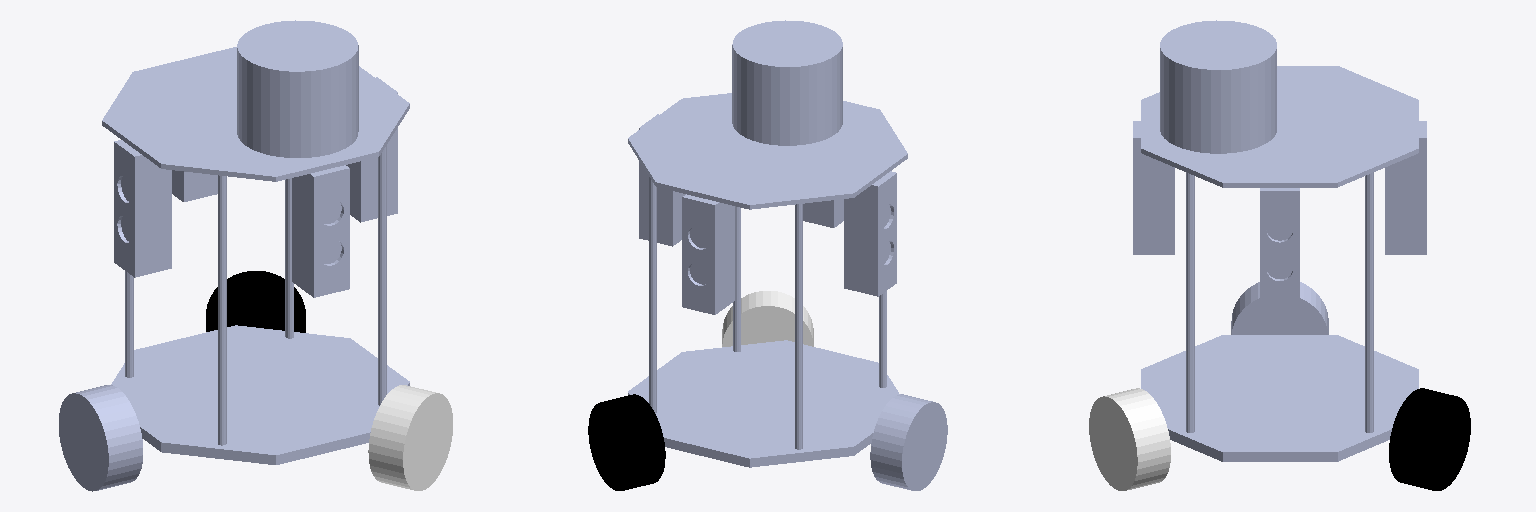
robot.urdf — rover:
<?xml version="1.0" encoding="utf-8"?>
<!-- This URDF was automatically created by SolidWorks to URDF Exporter! Originally created by [author] ([email redacted]) 
     Commit Version: 1.6.0-4-g7f85cfe  Build Version: 1.6.7995.38578
     For more information, please see http://wiki.ros.org/sw_urdf_exporter -->
<robot
  name="rover">
  <link
    name="base_link">
    <inertial>
      <origin
        xyz="9.58610261324536E-18 3.82610526269858E-18 0.064590953056216"
        rpy="0 0 0" />
      <mass
        value="0.229882969798051" />
      <inertia
        ixx="0.00200848181105579"
        ixy="1.48892510259545E-20"
        ixz="-1.74672005295794E-20"
        iyy="0.00200848181105579"
        iyz="2.68260460885518E-19"
        izz="0.000860077065262754" />
    </inertial>
    <visual>
      <origin
        xyz="0 0 0"
        rpy="0 0 0" />
      <geometry>
        <mesh
          filename="package://rover/meshes/base_link.STL" />
      </geometry>
      <material
        name="">
        <color
          rgba="0.792156862745098 0.819607843137255 0.933333333333333 1" />
      </material>
    </visual>
    <collision>
      <origin
        xyz="0 0 0"
        rpy="0 0 0" />
      <geometry>
        <mesh
          filename="package://rover/meshes/base_link.STL" />
      </geometry>
    </collision>
  </link>
  <link
    name="wheel1_link">
    <inertial>
      <origin
        xyz="3.9489E-17 -1.2917E-16 0.0057626"
        rpy="0 0 0" />
      <mass
        value="0.060901" />
      <inertia
        ixx="1.5501E-05"
        ixy="8.4703E-22"
        ixz="-2.0892E-21"
        iyy="1.5501E-05"
        iyz="-4.0134E-21"
        izz="2.5609E-05" />
    </inertial>
    <visual>
      <origin
        xyz="0 0 0"
        rpy="0 0 0" />
      <geometry>
        <mesh
          filename="package://rover/meshes/wheel1_link.STL" />
      </geometry>
      <material
        name="">
        <color
          rgba="0 0 0 1" />
      </material>
    </visual>
    <collision>
      <origin
        xyz="0 0 0"
        rpy="0 0 0" />
      <geometry>
        <mesh
          filename="package://rover/meshes/wheel1_link.STL" />
      </geometry>
    </collision>
  </link>
  <joint
    name="wheel1_joint"
    type="continuous">
    <origin
      xyz="0.048665 0.08429 0"
      rpy="-1.5708 -0.38253 -0.5236" />
    <parent
      link="base_link" />
    <child
      link="wheel1_link" />
    <axis
      xyz="0 0 1" />
  </joint>
  <link
    name="wheel2_link">
    <inertial>
      <origin
        xyz="2.6725E-17 1.6435E-17 0.04488"
        rpy="0 0 0" />
      <mass
        value="0.060901" />
      <inertia
        ixx="1.5501E-05"
        ixy="8.4703E-22"
        ixz="2.1449E-21"
        iyy="1.5501E-05"
        iyz="-6.6049E-22"
        izz="2.5609E-05" />
    </inertial>
    <visual>
      <origin
        xyz="0 0 0"
        rpy="0 0 0" />
      <geometry>
        <mesh
          filename="package://rover/meshes/wheel2_link.STL" />
      </geometry>
      <material
        name="">
        <color
          rgba="1 1 1 1" />
      </material>
    </visual>
    <collision>
      <origin
        xyz="0 0 0"
        rpy="0 0 0" />
      <geometry>
        <mesh
          filename="package://rover/meshes/wheel2_link.STL" />
      </geometry>
    </collision>
  </link>
  <joint
    name="wheel2_joint"
    type="continuous">
    <origin
      xyz="0.029106 -0.050413 0"
      rpy="-1.5708 1.1361 -2.618" />
    <parent
      link="base_link" />
    <child
      link="wheel2_link" />
    <axis
      xyz="0 0 1" />
  </joint>
  <link
    name="wheel3_link">
    <inertial>
      <origin
        xyz="-2.1018E-17 -3.251E-17 0.011525"
        rpy="0 0 0" />
      <mass
        value="0.060901" />
      <inertia
        ixx="1.5501E-05"
        ixy="3.3881E-21"
        ixz="7.8988E-22"
        iyy="1.5501E-05"
        iyz="-1.7995E-21"
        izz="2.5609E-05" />
    </inertial>
    <visual>
      <origin
        xyz="0 0 0"
        rpy="0 0 0" />
      <geometry>
        <mesh
          filename="package://rover/meshes/wheel3_link.STL" />
      </geometry>
      <material
        name="">
        <color
          rgba="0.79216 0.81961 0.93333 1" />
      </material>
    </visual>
    <collision>
      <origin
        xyz="0 0 0"
        rpy="0 0 0" />
      <geometry>
        <mesh
          filename="package://rover/meshes/wheel3_link.STL" />
      </geometry>
    </collision>
  </link>
  <joint
    name="wheel2_joint"
    type="continuous">
    <origin
      xyz="-0.091567 0 0"
      rpy="-1.5708 -0.39309 1.5708" />
    <parent
      link="base_link" />
    <child
      link="wheel3_link" />
    <axis
      xyz="0 0 1" />
  </joint>
  <link
    name="us1_link">
    <inertial>
      <origin
        xyz="0.012002 0.038481 0.012243"
        rpy="0 0 0" />
      <mass
        value="0.045149" />
      <inertia
        ixx="2.488E-05"
        ixy="1.7839E-21"
        ixz="-1.4826E-22"
        iyy="4.4717E-06"
        iyz="1.8088E-21"
        izz="2.4809E-05" />
    </inertial>
    <visual>
      <origin
        xyz="0 0 0"
        rpy="0 0 0" />
      <geometry>
        <mesh
          filename="package://rover/meshes/us1_link.STL" />
      </geometry>
      <material
        name="">
        <color
          rgba="0.79216 0.81961 0.93333 1" />
      </material>
    </visual>
    <collision>
      <origin
        xyz="0 0 0"
        rpy="0 0 0" />
      <geometry>
        <mesh
          filename="package://rover/meshes/us1_link.STL" />
      </geometry>
    </collision>
  </link>
  <joint
    name="us1_joint"
    type="fixed">
    <origin
      xyz="0.062644 -0.012065 0.10325"
      rpy="1.5708 0 1.5708" />
    <parent
      link="base_link" />
    <child
      link="us1_link" />
    <axis
      xyz="0 0 0" />
  </joint>
  <link
    name="us2_link">
    <inertial>
      <origin
        xyz="0.012002 0.038481 0.012243"
        rpy="0 0 0" />
      <mass
        value="0.045149" />
      <inertia
        ixx="2.488E-05"
        ixy="7.7998E-22"
        ixz="-5.3521E-22"
        iyy="4.4717E-06"
        iyz="9.5453E-22"
        izz="2.4809E-05" />
    </inertial>
    <visual>
      <origin
        xyz="0 0 0"
        rpy="0 0 0" />
      <geometry>
        <mesh
          filename="package://rover/meshes/us2_link.STL" />
      </geometry>
      <material
        name="">
        <color
          rgba="0.79216 0.81961 0.93333 1" />
      </material>
    </visual>
    <collision>
      <origin
        xyz="0 0 0"
        rpy="0 0 0" />
      <geometry>
        <mesh
          filename="package://rover/meshes/us2_link.STL" />
      </geometry>
    </collision>
  </link>
  <joint
    name="us2_joint"
    type="fixed">
    <origin
      xyz="-0.012002 -0.062644 0.10325"
      rpy="1.5708 0 0" />
    <parent
      link="base_link" />
    <child
      link="us2_link" />
    <axis
      xyz="0 0 0" />
  </joint>
  <link
    name="us3_link">
    <inertial>
      <origin
        xyz="0.012002 0.038481 0.012243"
        rpy="0 0 0" />
      <mass
        value="0.045149" />
      <inertia
        ixx="2.488E-05"
        ixy="1.5004E-21"
        ixz="1.3334E-22"
        iyy="4.4717E-06"
        iyz="-1.116E-20"
        izz="2.4809E-05" />
    </inertial>
    <visual>
      <origin
        xyz="0 0 0"
        rpy="0 0 0" />
      <geometry>
        <mesh
          filename="package://rover/meshes/us3_link.STL" />
      </geometry>
      <material
        name="">
        <color
          rgba="0.79216 0.81961 0.93333 1" />
      </material>
    </visual>
    <collision>
      <origin
        xyz="0 0 0"
        rpy="0 0 0" />
      <geometry>
        <mesh
          filename="package://rover/meshes/us3_link.STL" />
      </geometry>
    </collision>
  </link>
  <joint
    name="us3_joint"
    type="fixed">
    <origin
      xyz="-0.062644 0.011938 0.10325"
      rpy="1.5708 0 -1.5708" />
    <parent
      link="base_link" />
    <child
      link="us3_link" />
    <axis
      xyz="0 0 0" />
  </joint>
  <link
    name="us4_link">
    <inertial>
      <origin
        xyz="0.012002 0.038481 0.012243"
        rpy="0 0 0" />
      <mass
        value="0.045149" />
      <inertia
        ixx="2.488E-05"
        ixy="-1.902E-21"
        ixz="7.9478E-23"
        iyy="4.4717E-06"
        iyz="2.4272E-21"
        izz="2.4809E-05" />
    </inertial>
    <visual>
      <origin
        xyz="0 0 0"
        rpy="0 0 0" />
      <geometry>
        <mesh
          filename="package://rover/meshes/us4_link.STL" />
      </geometry>
      <material
        name="">
        <color
          rgba="0.79216 0.81961 0.93333 1" />
      </material>
    </visual>
    <collision>
      <origin
        xyz="0 0 0"
        rpy="0 0 0" />
      <geometry>
        <mesh
          filename="package://rover/meshes/us4_link.STL" />
      </geometry>
    </collision>
  </link>
  <joint
    name="us4_joint"
    type="fixed">
    <origin
      xyz="0.012002 0.062644 0.10325"
      rpy="1.5708 0 3.1416" />
    <parent
      link="base_link" />
    <child
      link="us4_link" />
    <axis
      xyz="0 0 0" />
  </joint>
  <link
    name="lidar_link">
    <inertial>
      <origin
        xyz="-6.9389E-18 0.0275 -8.6736E-19"
        rpy="0 0 0" />
      <mass
        value="0.21166" />
      <inertia
        ixx="0.00011818"
        ixy="-1.0604E-21"
        ixz="-4.8428E-36"
        iyy="0.00012964"
        iyz="3.1107E-22"
        izz="0.00011818" />
    </inertial>
    <visual>
      <origin
        xyz="0 0 0"
        rpy="0 0 0" />
      <geometry>
        <mesh
          filename="package://rover/meshes/lidar_link.STL" />
      </geometry>
      <material
        name="">
        <color
          rgba="0.79216 0.81961 0.93333 1" />
      </material>
    </visual>
    <collision>
      <origin
        xyz="0 0 0"
        rpy="0 0 0" />
      <geometry>
        <mesh
          filename="package://rover/meshes/lidar_link.STL" />
      </geometry>
    </collision>
  </link>
  <joint
    name="lidar_joint"
    type="continuous">
    <origin
      xyz="0.0067498 -0.036576 0.18339"
      rpy="1.5708 0 -1.1777" />
    <parent
      link="base_link" />
    <child
      link="lidar_link" />
    <axis
      xyz="0 1 0" />
  </joint>
</robot>

--- What the picture shows (computed from the rendered views, not written in the file) ---
3 views of the same robot in one strip: view 1: azimuth 30°, elevation 25°; view 2: azimuth 150°, elevation 25°; view 3: azimuth 270°, elevation 25° (orthographic).
Model rover with 9 links and 8 joints (4 continuous, 4 fixed), rooted at base_link, posed all joints at 0.
Links seen in each view (by area): view 1: base_link, lidar_link, wheel3_link, wheel2_link, us2_link, us3_link, wheel1_link, us1_link, us4_link; view 2: base_link, lidar_link, wheel3_link, wheel1_link, us4_link, us3_link, wheel2_link, us1_link, us2_link; view 3: base_link, lidar_link, wheel1_link, wheel2_link, us1_link, us2_link, us4_link, wheel3_link.
Boxes of the visible links, x1,y1,x2,y2 form: base_link: (102, 47, 409, 464); lidar_link: (237, 20, 358, 157); wheel3_link: (59, 385, 142, 491); wheel2_link: (368, 385, 452, 490); us2_link: (292, 165, 349, 297); us3_link: (114, 140, 171, 277); wheel1_link: (206, 271, 305, 332); us1_link: (346, 77, 397, 222); us4_link: (172, 170, 217, 201); base_link: (628, 93, 907, 467); lidar_link: (732, 20, 842, 145); wheel3_link: (870, 394, 947, 490); wheel1_link: (588, 394, 665, 490); us4_link: (682, 194, 734, 314); us3_link: (844, 171, 896, 296); wheel2_link: (722, 291, 813, 346); us1_link: (639, 114, 685, 246); us2_link: (803, 199, 843, 227); base_link: (1141, 66, 1418, 461); lidar_link: (1160, 20, 1276, 153); wheel1_link: (1389, 388, 1470, 490); wheel2_link: (1089, 388, 1170, 490); us1_link: (1260, 188, 1299, 307); us2_link: (1133, 121, 1174, 254); us4_link: (1385, 121, 1426, 254); wheel3_link: (1231, 282, 1328, 334).
Bounding box of the posed robot: 0.2023 × 0.2275 × 0.2674 m (x, y, z).
9 mesh visuals loaded from 9 distinct referenced files (9 binary STL).